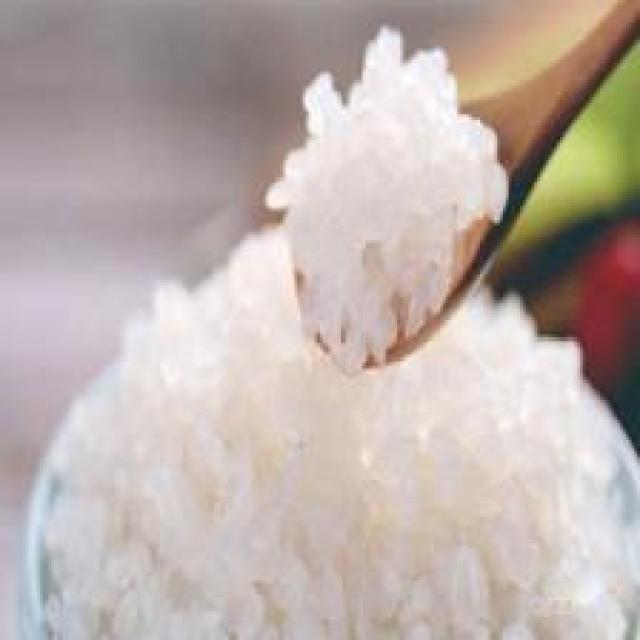Wet Waste: (46, 161, 640, 640), (263, 9, 506, 367)
